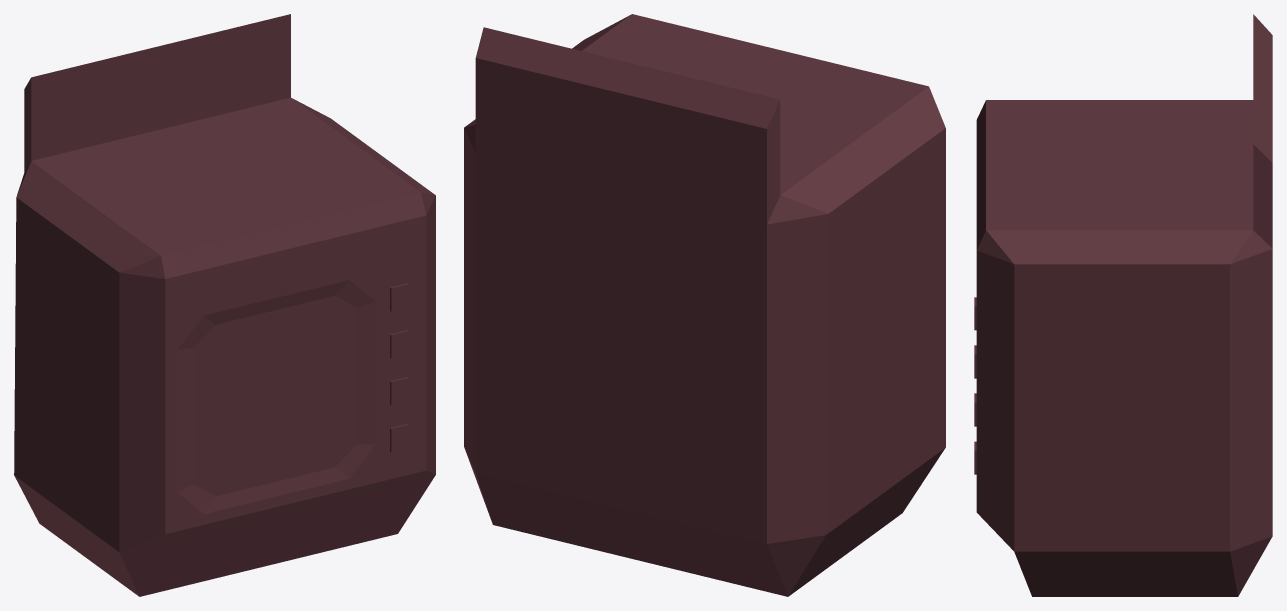
File: scifi-oven.fbx
3 views of the same model, side by side, from view 1: azimuth 30°, elevation 25°; view 2: azimuth 150°, elevation 25°; view 3: azimuth 270°, elevation 25° (orthographic). The views are drawn at different scales.
Visible parts, largest first — view 1: scifi-oven; view 2: scifi-oven; view 3: scifi-oven.
Boxes of the visible parts, x1,y1,x2,y2 form: scifi-oven: (14, 14, 435, 596); scifi-oven: (464, 14, 945, 596); scifi-oven: (974, 14, 1272, 596).
Size of the model in its own units: 0.8532 by 1.14 by 0.6777.
